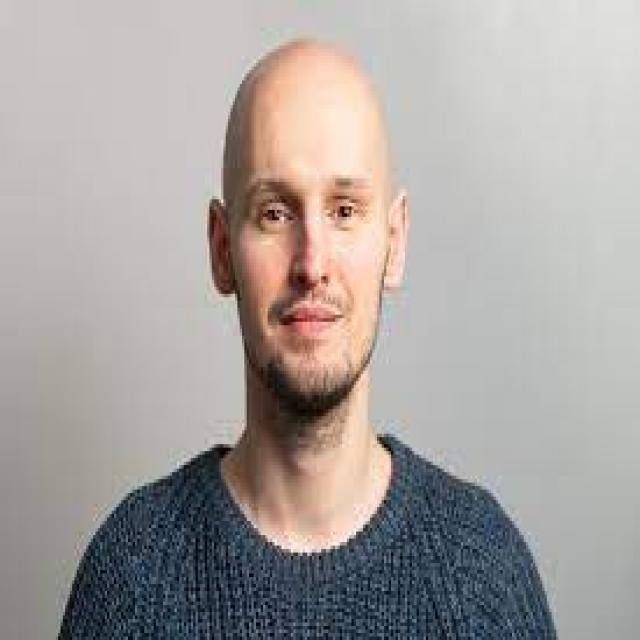bald: (200, 36, 414, 226)
